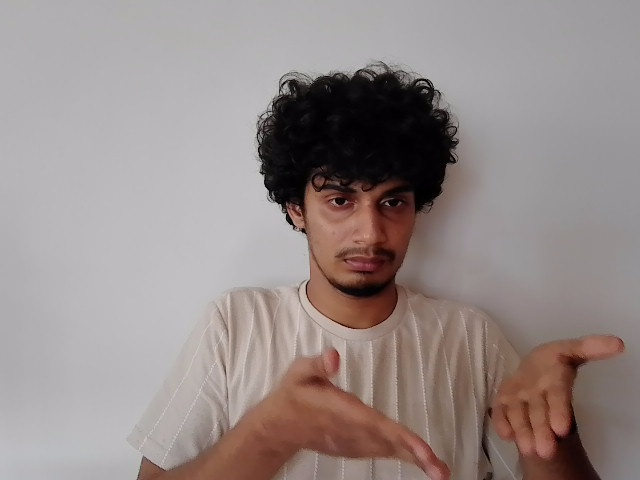here: (284, 333, 627, 465)
